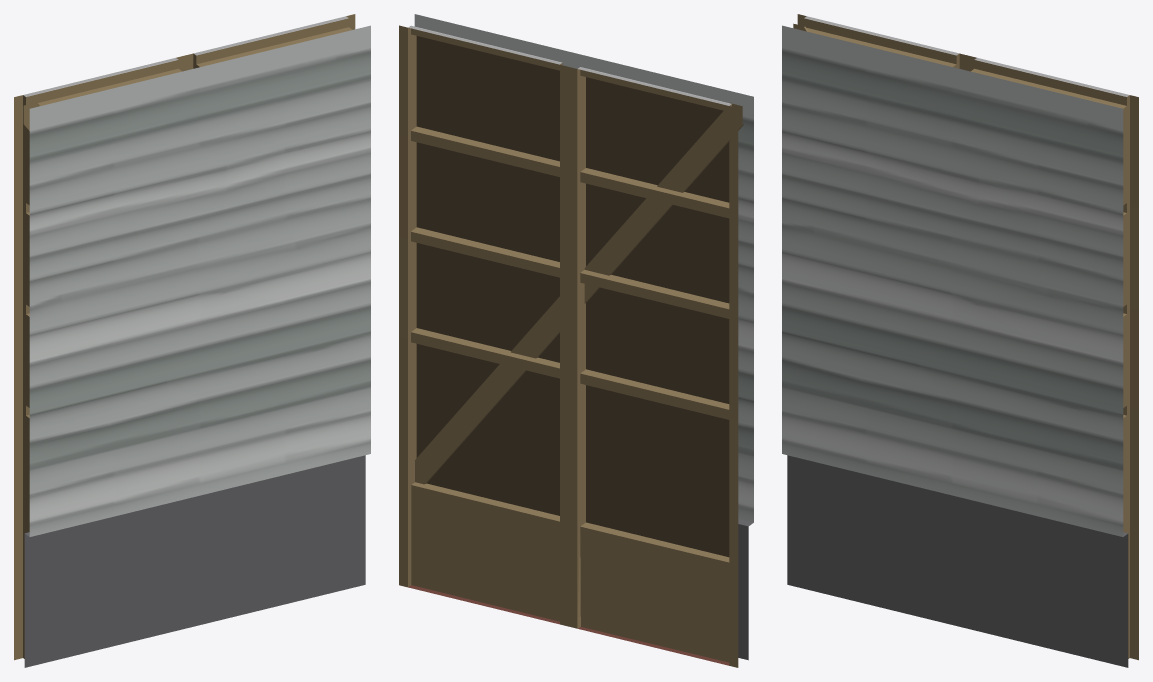
File: SM_Bld_House_ExteriorWall_GroundFloor_Garage_01.fbx
3 views of the same model, side by side, from view 1: azimuth 30°, elevation 25°; view 2: azimuth 150°, elevation 25°; view 3: azimuth 330°, elevation 25° (orthographic).
Visible parts, largest first — view 1: SM_Bld_House_ExteriorWall_GroundFloor_Garage_01; view 2: SM_Bld_House_ExteriorWall_GroundFloor_Garage_01; view 3: SM_Bld_House_ExteriorWall_GroundFloor_Garage_01.
Part boxes in pixels (x1=…): SM_Bld_House_ExteriorWall_GroundFloor_Garage_01: x1=14, y1=14, x2=370, y2=667; SM_Bld_House_ExteriorWall_GroundFloor_Garage_01: x1=399, y1=14, x2=753, y2=667; SM_Bld_House_ExteriorWall_GroundFloor_Garage_01: x1=782, y1=14, x2=1138, y2=667.
Bounding box in the file's own units: 250 × 394 × 20.07.
